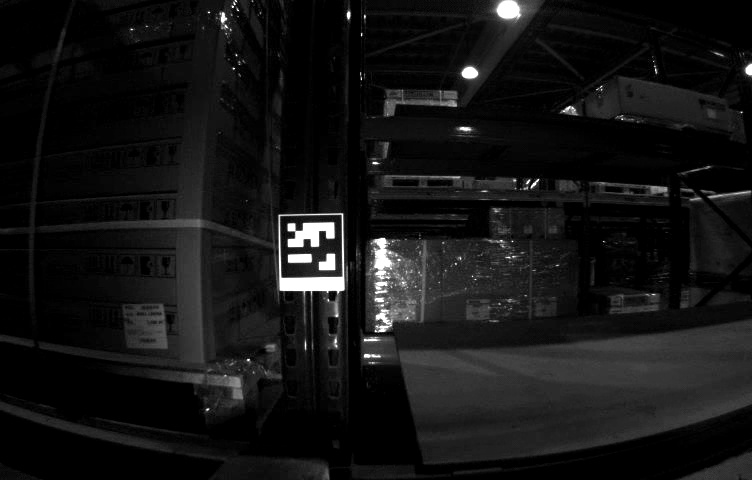True Barcode: (120, 303, 169, 352)
